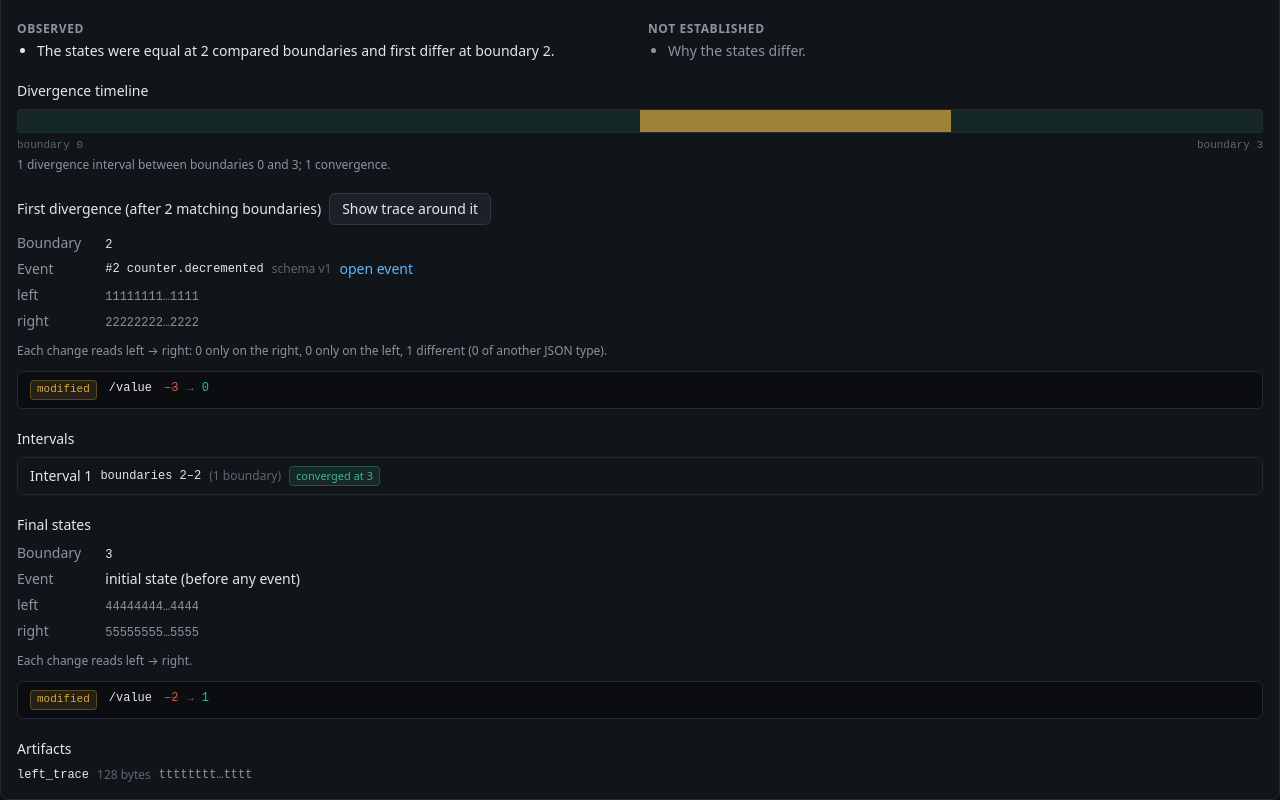
Test case: Sprint 8 diagnostics › shows the timeline, intervals with convergence, and evidence apart from open questions
The width and height of the screenshot is (1280, 800).
(page scrolled)
Check: the picture named "1 divergence interval between boundaries 0 and 3; 1 convergence" is shown, box [17,108,1263,132]
Check: the list named "Divergence intervals" shows "Interval 1", box [17,457,1263,495]
// Expanding an interval reveals its diff and convergence event.
Click the text "Interval 1": (61, 476) [30,466,92,486]
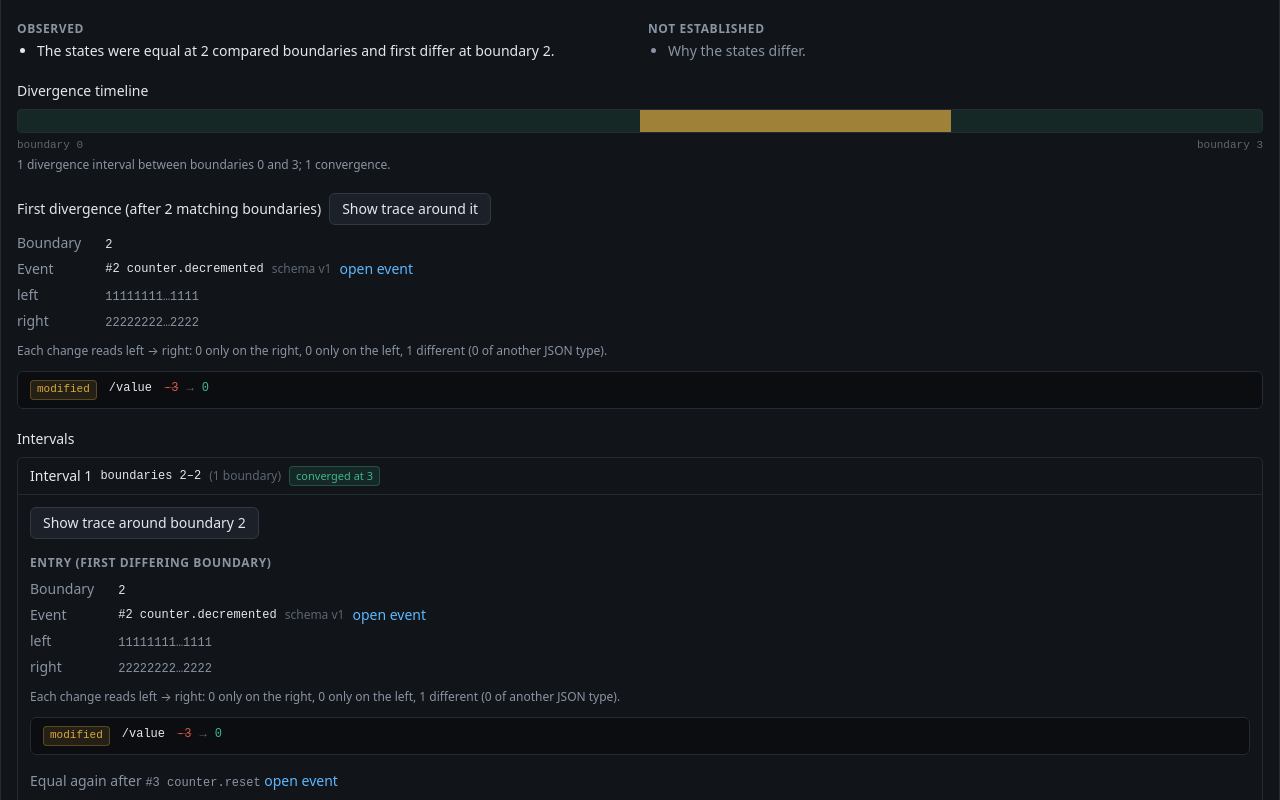
Check: the text "#3 counter.reset" is shown, box [145,776,261,790]
